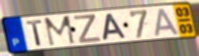7: (129, 9, 149, 39)
A: (154, 7, 181, 37), (101, 13, 128, 42)
M: (43, 14, 78, 48)
T: (25, 18, 45, 47)
Z: (73, 13, 103, 44)
